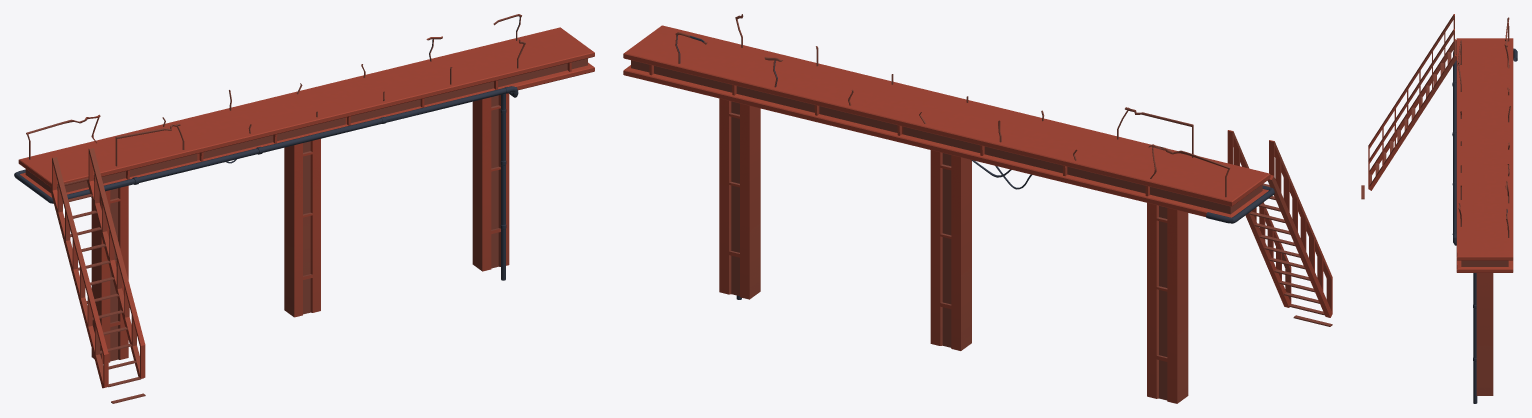
File: Harbor_Stage.fbx
3 views of the same model, side by side, from view 1: azimuth 30°, elevation 25°; view 2: azimuth 150°, elevation 25°; view 3: azimuth 270°, elevation 25° (orthographic). The views are drawn at different scales.
Visible parts, largest first — view 1: bridge_low.001, stand_low.001, railing_low.001, pipe_low.001, stairs_low.001, fence2_low.001, fence1_low; view 2: bridge_low.001, stand_low.001, railing_low.001, stairs_low.001, fence2_low.001; view 3: bridge_low.001, railing_low.001, stand_low.001, pipe_low.001, stairs_low.001, fence2_low.001, fence1_low.
Boxes of the visible parts, x1,y1,x2,y2 form: bridge_low.001: [18, 27, 594, 197]; stand_low.001: [91, 93, 509, 363]; railing_low.001: [50, 147, 145, 388]; pipe_low.001: [14, 86, 518, 280]; stairs_low.001: [57, 178, 145, 403]; fence2_low.001: [26, 14, 521, 159]; fence1_low: [115, 40, 525, 166]; bridge_low.001: [623, 25, 1270, 217]; stand_low.001: [719, 98, 1188, 403]; railing_low.001: [1227, 130, 1332, 317]; stairs_low.001: [1249, 183, 1332, 326]; fence2_low.001: [675, 32, 1230, 197]; bridge_low.001: [1456, 38, 1513, 272]; railing_low.001: [1368, 14, 1456, 190]; stand_low.001: [1476, 273, 1493, 395]; pipe_low.001: [1452, 48, 1517, 403]; stairs_low.001: [1361, 40, 1456, 199]; fence2_low.001: [1504, 17, 1510, 237]; fence1_low: [1457, 40, 1461, 226].
Bounding box in the file's own units: 1937 × 836 × 582.
